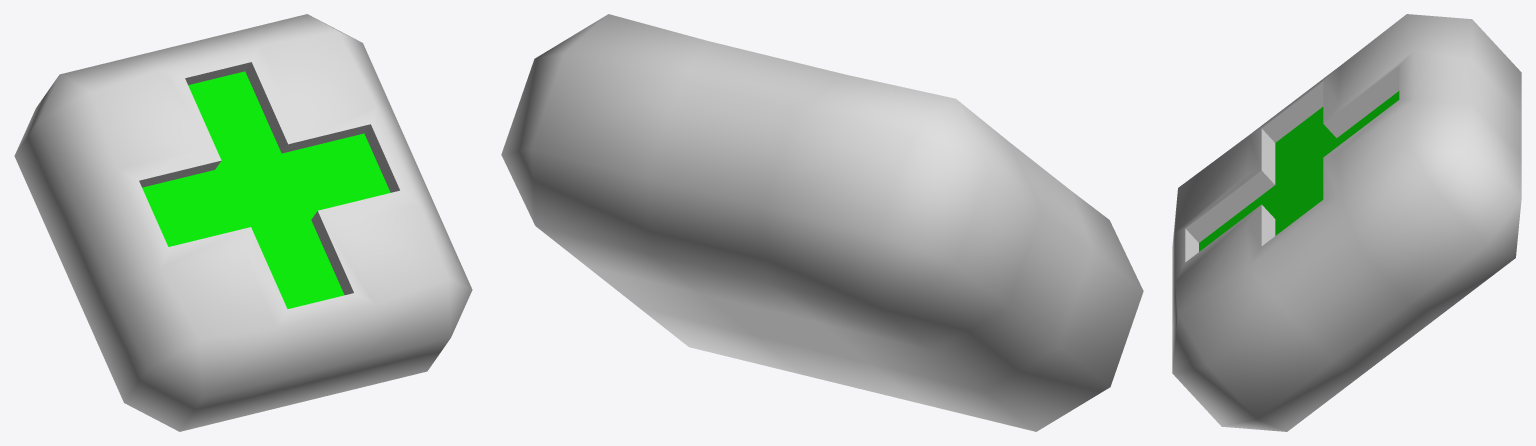
Rendered from Medkit.fbx.
The picture shows the model from 3 angles, left to right: view 1: azimuth 30°, elevation 25°; view 2: azimuth 150°, elevation 25°; view 3: azimuth 270°, elevation 25°; orthographic projection. The views are drawn at different scales.
Visible parts, largest first — view 1: Cube.115; view 2: Cube.115; view 3: Cube.115.
Boxes of the visible parts, bbox=[...] form: Cube.115: bbox=[14, 14, 472, 431]; Cube.115: bbox=[501, 14, 1143, 431]; Cube.115: bbox=[1172, 14, 1521, 431].
Bounding box in the file's own units: 200 × 165 × 178.
